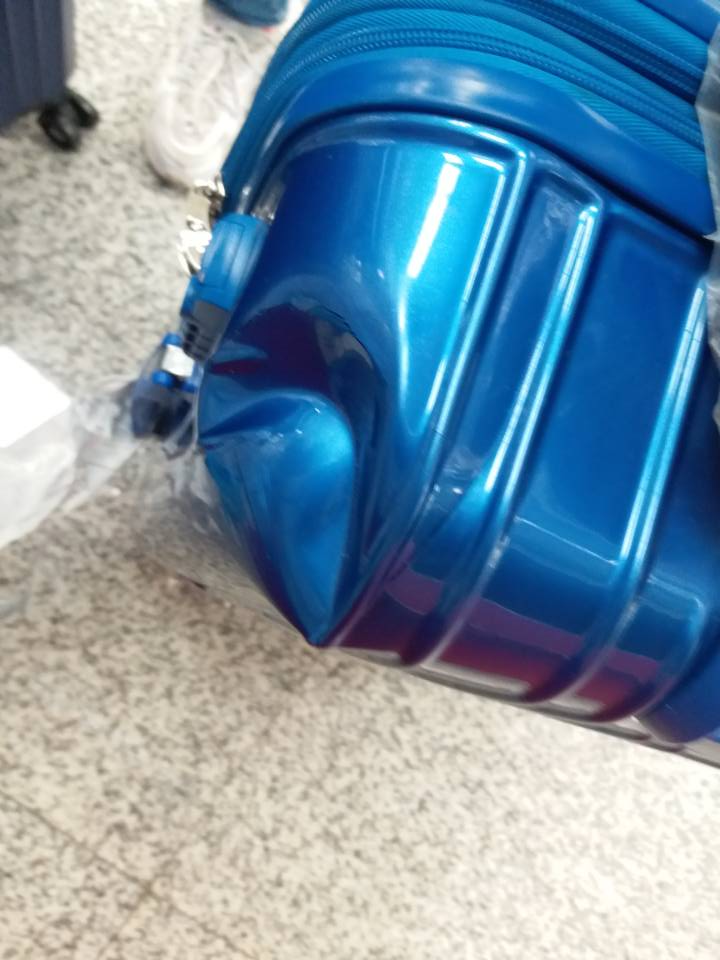rupture: (196, 283, 395, 646)
